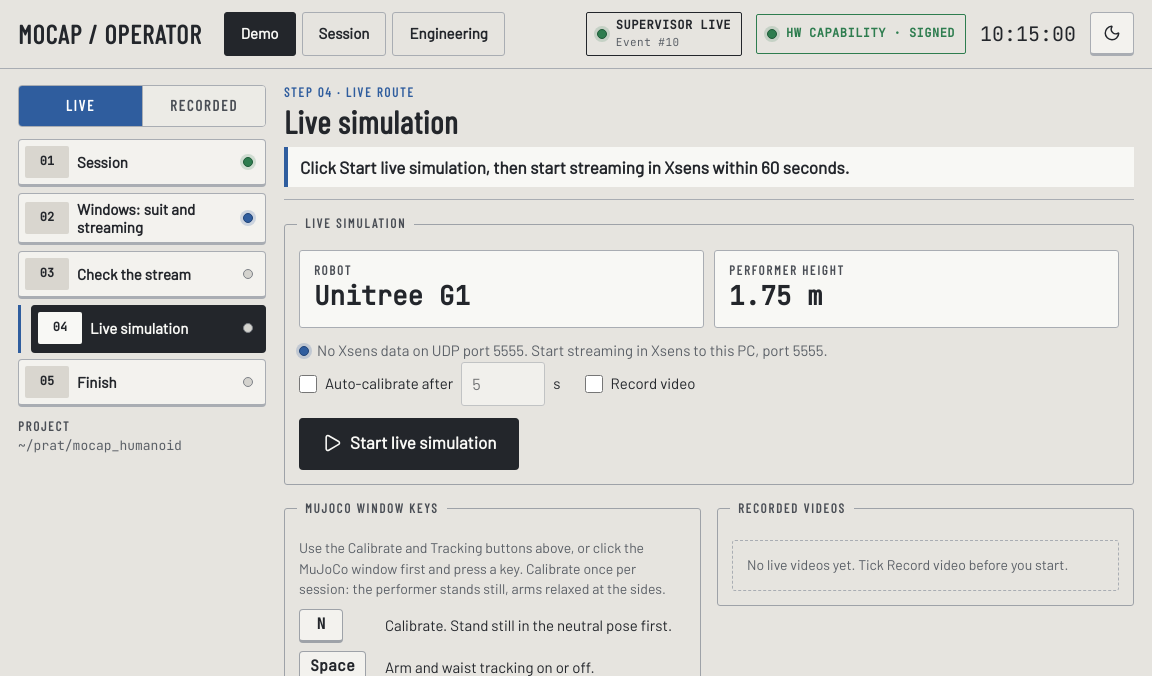
Test: Setup recovery and readiness › offers to stop a leftover viewer, then lets the user retry
Click the button "Start live simulation": (409, 444) x1=299 y1=418 x2=520 y2=470
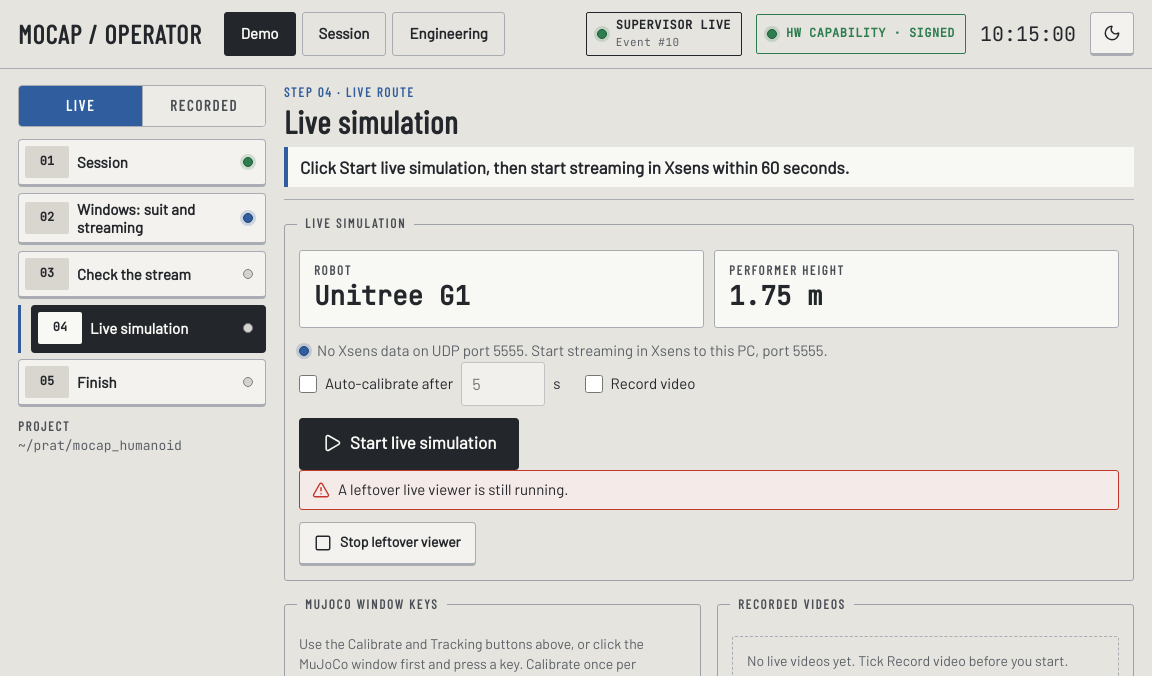
expect the message "A leftover live viewer is still running." is shown: met, box x1=299 y1=470 x2=1119 y2=510
Click the button "Stop leftover viewer": (387, 544) x1=299 y1=522 x2=476 y2=566
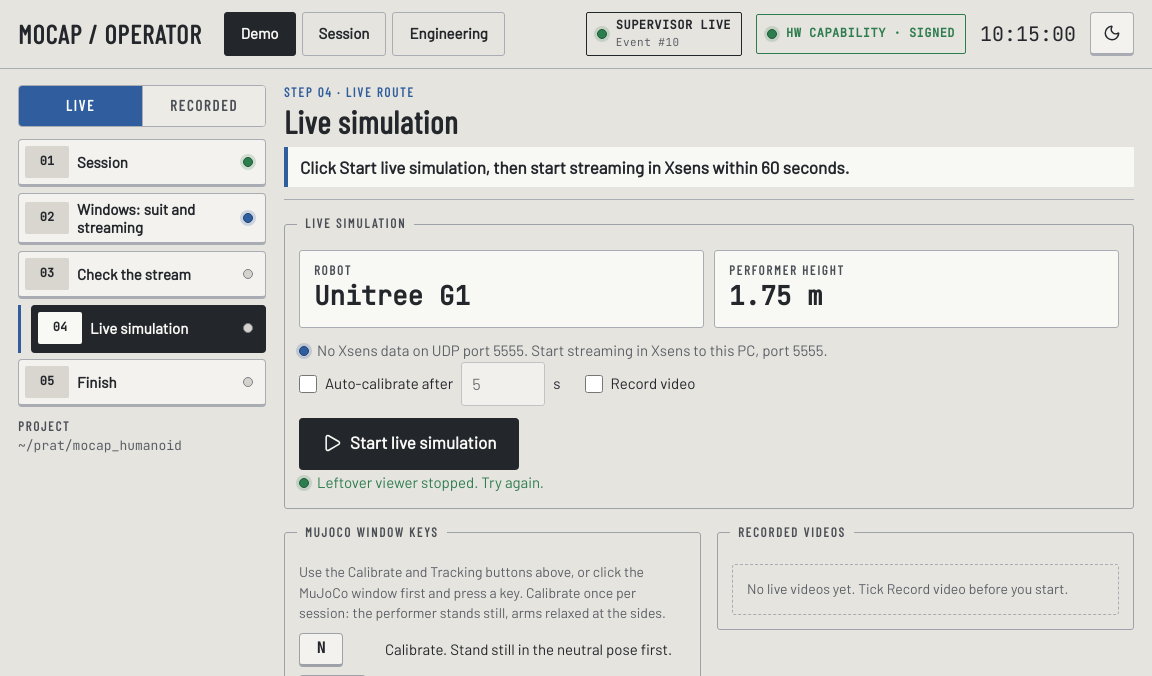
expect the button "Start live simulation" is enabled: met, box x1=299 y1=418 x2=520 y2=470
expect the text "Leftover viewer stopped. Try again." is shown: met, box x1=317 y1=472 x2=544 y2=494
expect the button "Stop leftover viewer" is gone: met
